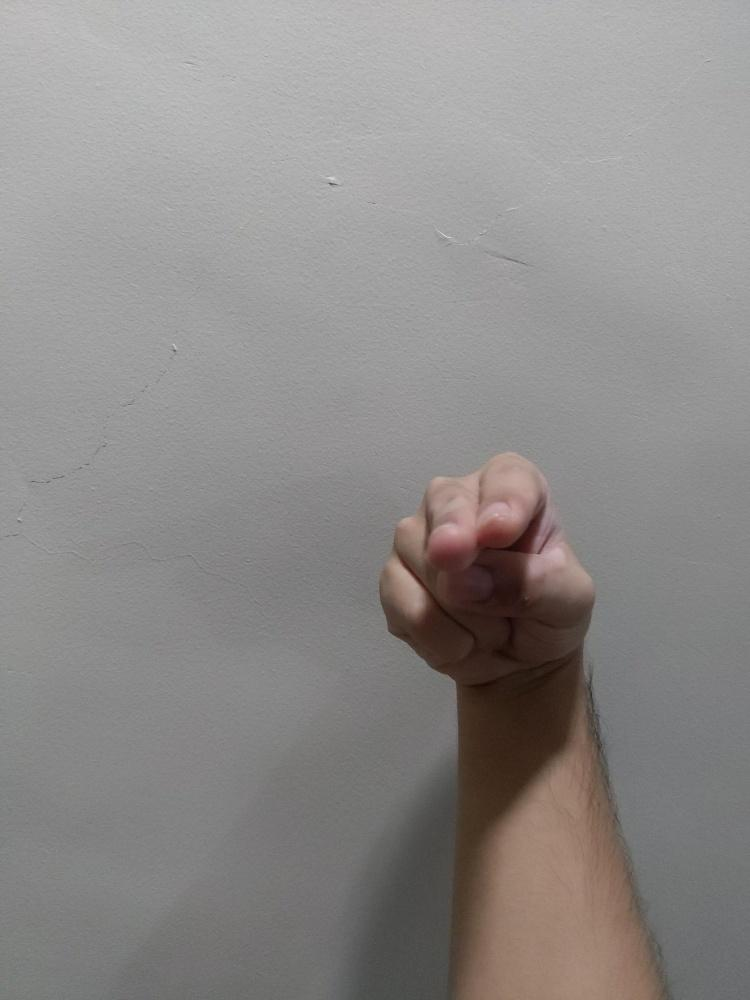n: (377, 450, 597, 687)
